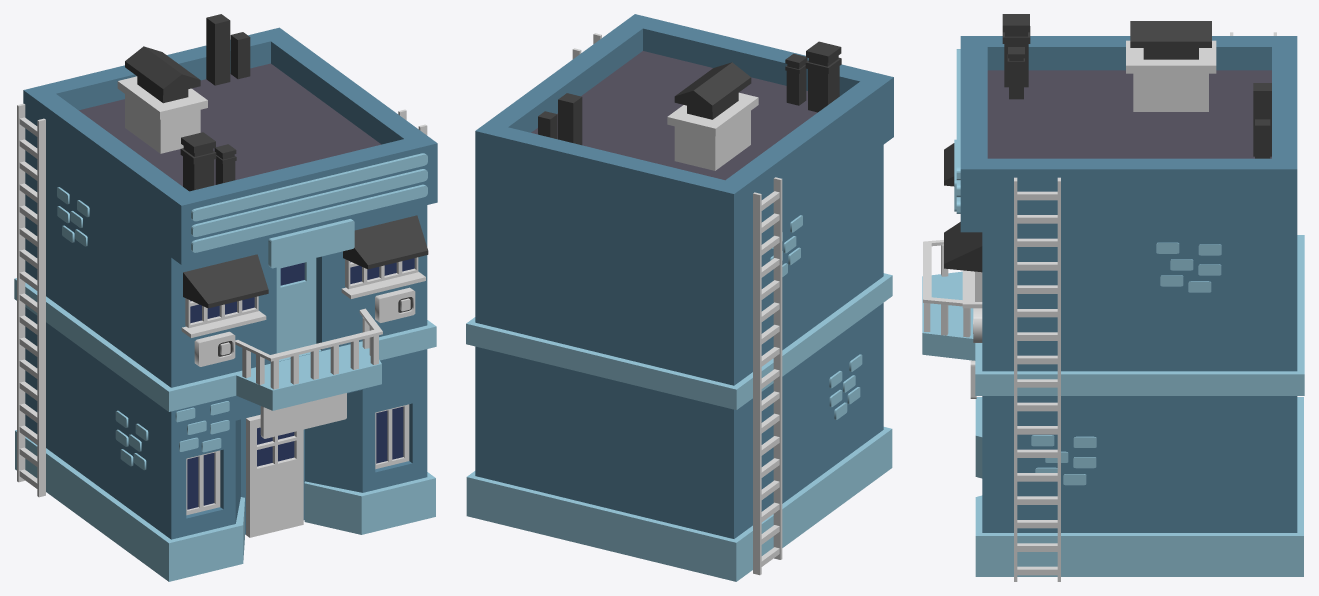
Rendered from Edificio azul.fbx.
3 views of the same model, side by side, from view 1: azimuth 30°, elevation 25°; view 2: azimuth 150°, elevation 25°; view 3: azimuth 270°, elevation 25° (orthographic). The views are drawn at different scales.
Visible parts, largest first — view 1: Cube.079, Cube.084, Cube.098, Cube.080, Cube.081, Cube.092, Cube.097, Cube.089, Cube.091, Cube.085, Cube.082, Cube.093 (+15 smaller); view 2: Cube.079, Cube.098, Cube.097, Cube.093, Cube.106, Cube.094, Cube.101, Cube.102; view 3: Cube.079, Cube.095, Cube.096, Cube.100, Cube.091, Cube.099, Cube.093, Cube.106, Cube.104, Cube.094, Cube.084, Cube.107 (+2 smaller).
Part boxes in pixels (left/top/right/bottom): Cube.079: left=14, top=27, right=437, bottom=581; Cube.084: left=191, top=153, right=427, bottom=252; Cube.098: left=17, top=103, right=45, bottom=497; Cube.080: left=245, top=414, right=303, bottom=537; Cube.081: left=186, top=404, right=409, bottom=515; Cube.092: left=276, top=258, right=316, bottom=353; Cube.097: left=19, top=117, right=37, bottom=488; Cube.089: left=183, top=254, right=268, bottom=308; Cube.091: left=343, top=215, right=428, bottom=269; Cube.085: left=268, top=219, right=354, bottom=268; Cube.082: left=260, top=393, right=346, bottom=438; Cube.093: left=180, top=132, right=216, bottom=191; Cube.079: left=466, top=14, right=893, bottom=581; Cube.098: left=753, top=177, right=782, bottom=575; Cube.097: left=761, top=191, right=779, bottom=566; Cube.093: left=805, top=41, right=841, bottom=112; Cube.106: left=558, top=93, right=582, bottom=145; Cube.094: left=785, top=53, right=807, bottom=105; Cube.101: left=829, top=354, right=862, bottom=419; Cube.102: left=770, top=215, right=802, bottom=276; Cube.079: left=922, top=21, right=1304, bottom=576; Cube.095: left=1017, top=191, right=1057, bottom=575; Cube.096: left=1014, top=177, right=1060, bottom=581; Cube.100: left=1156, top=242, right=1221, bottom=292; Cube.091: left=944, top=222, right=982, bottom=272; Cube.099: left=1031, top=435, right=1096, bottom=485; Cube.093: left=1002, top=14, right=1030, bottom=87; Cube.106: left=1253, top=83, right=1271, bottom=156; Cube.104: left=923, top=240, right=962, bottom=306; Cube.094: left=1007, top=47, right=1024, bottom=99; Cube.084: left=956, top=49, right=960, bottom=213; Cube.107: left=1255, top=119, right=1270, bottom=158.
Bounding box in the file's own units: 224 × 324 × 242.
